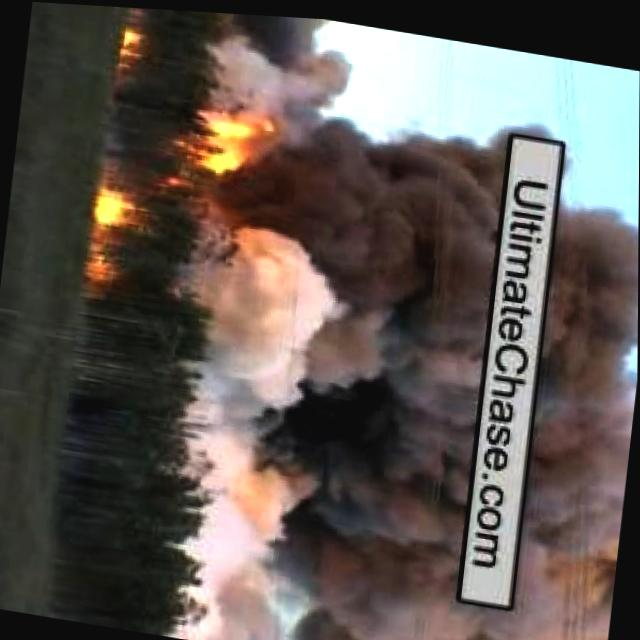helmet: (183, 95, 281, 182), (97, 185, 140, 234), (82, 252, 126, 289), (121, 25, 144, 62)
no_helmet: (205, 84, 506, 640), (500, 178, 639, 640)
